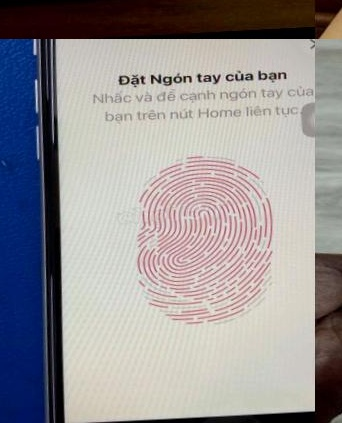physical_damage: (0, 0, 262, 6)
